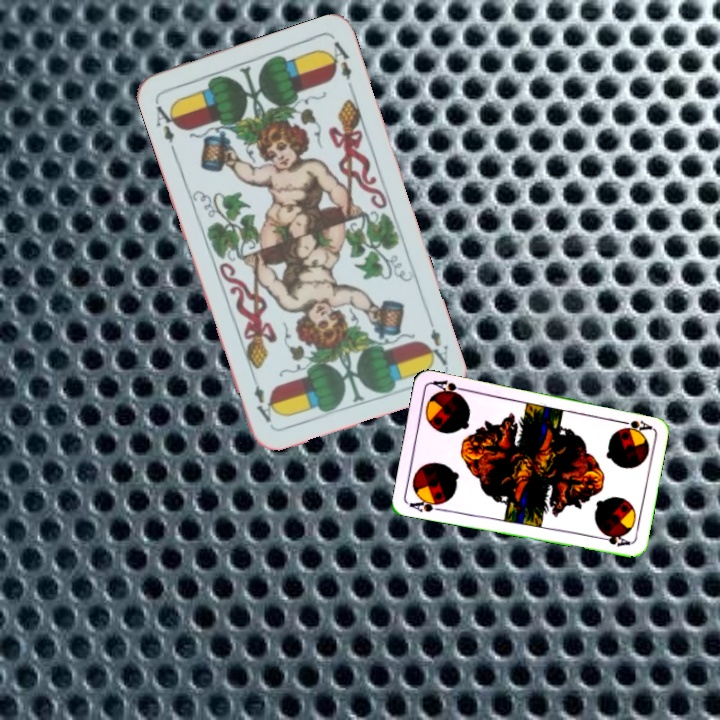EA: (421, 312, 451, 368), (152, 99, 182, 146)
SA: (406, 494, 448, 514), (613, 416, 653, 433)
